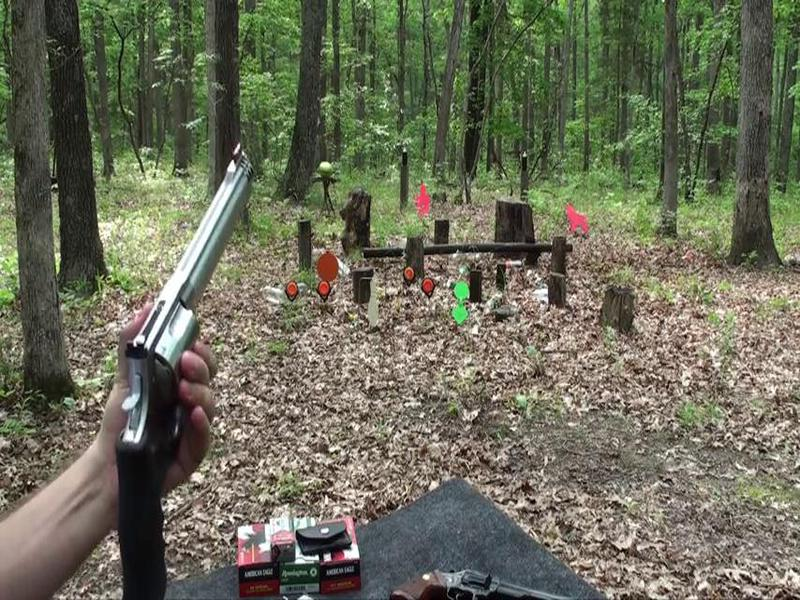Revolver: (120, 136, 264, 483)
